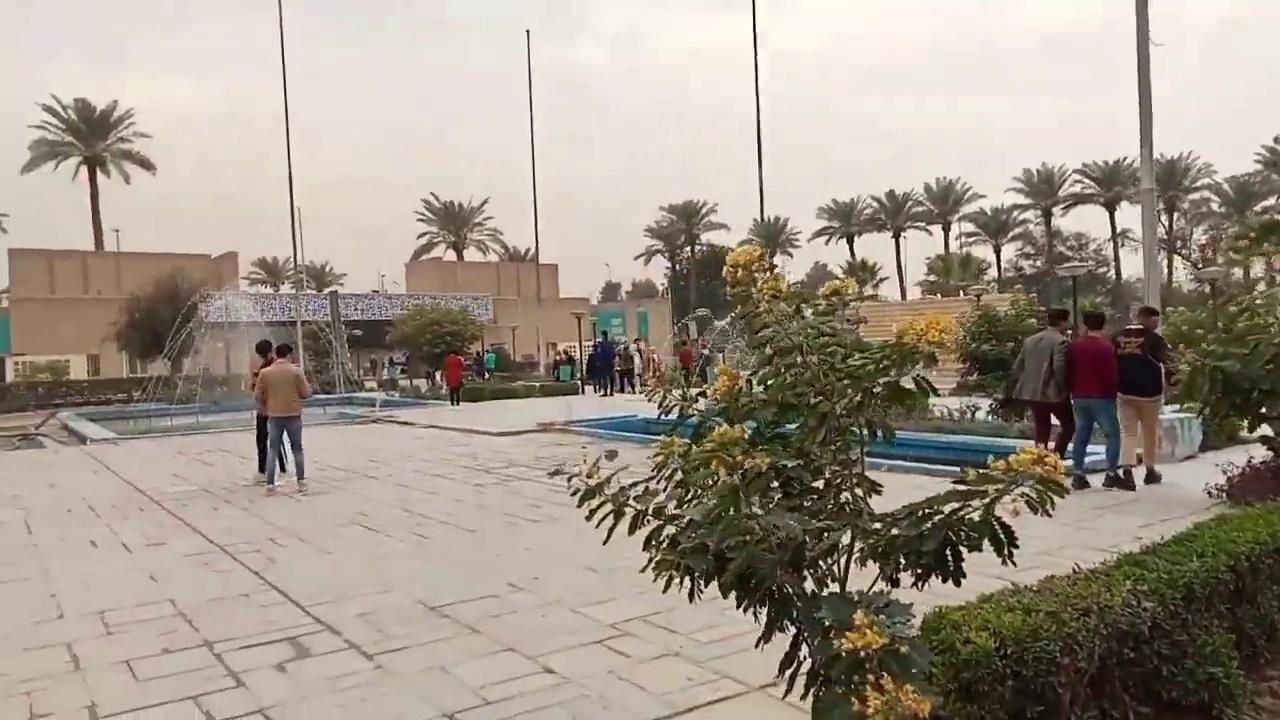fountain: (536, 241, 1200, 490), (58, 284, 447, 445), (536, 399, 1202, 483)
person: (1109, 304, 1176, 490), (1003, 307, 1075, 459), (1063, 309, 1122, 489), (254, 342, 313, 495), (249, 338, 286, 477), (443, 349, 464, 407)
tree: (554, 230, 1071, 717), (1156, 131, 1279, 500), (19, 91, 157, 250), (1060, 155, 1141, 310), (110, 266, 208, 372), (1148, 148, 1215, 289), (382, 302, 485, 387), (658, 197, 729, 316), (951, 292, 1040, 385), (1004, 160, 1074, 271), (865, 187, 933, 300), (806, 194, 881, 296), (1208, 170, 1270, 293), (917, 174, 985, 286), (289, 258, 347, 383), (633, 217, 693, 335), (408, 190, 503, 262), (959, 201, 1031, 290), (305, 290, 361, 394), (239, 253, 296, 354), (1249, 132, 1279, 287), (914, 250, 989, 297), (745, 213, 801, 274), (240, 254, 295, 292), (840, 256, 888, 299), (290, 258, 347, 292), (1252, 132, 1279, 202), (498, 243, 534, 263)
